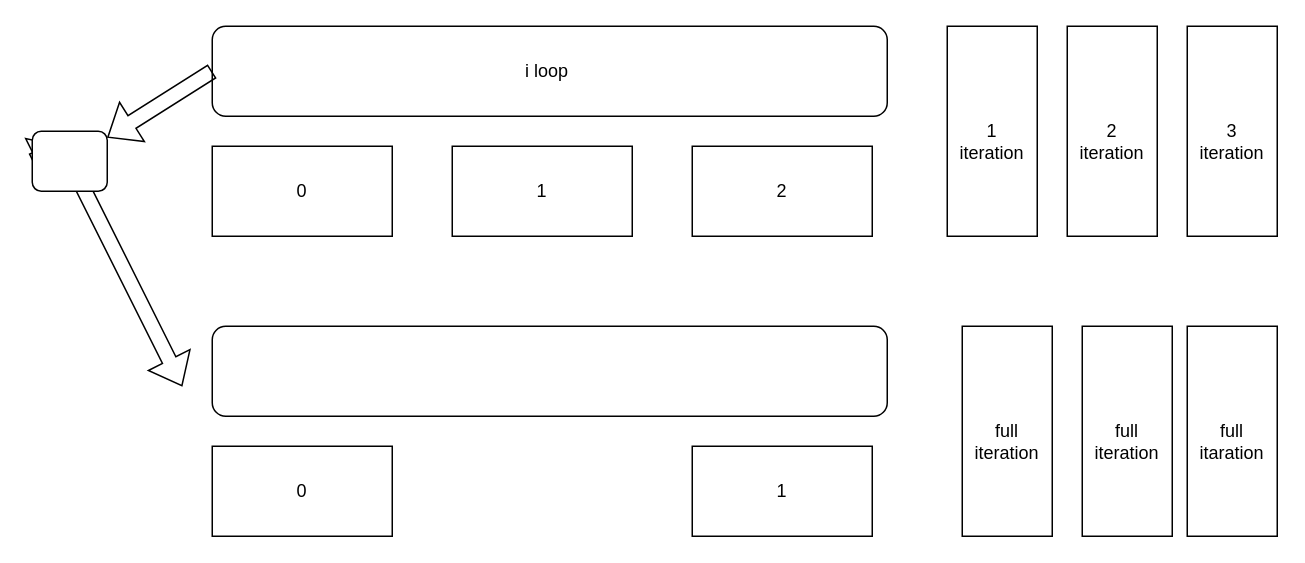
This 1305x563 diagram has some shape labels left out. Each missing label, with the centre of its shape:
j loop: the point at 549,370
Nested: the point at 69,160
